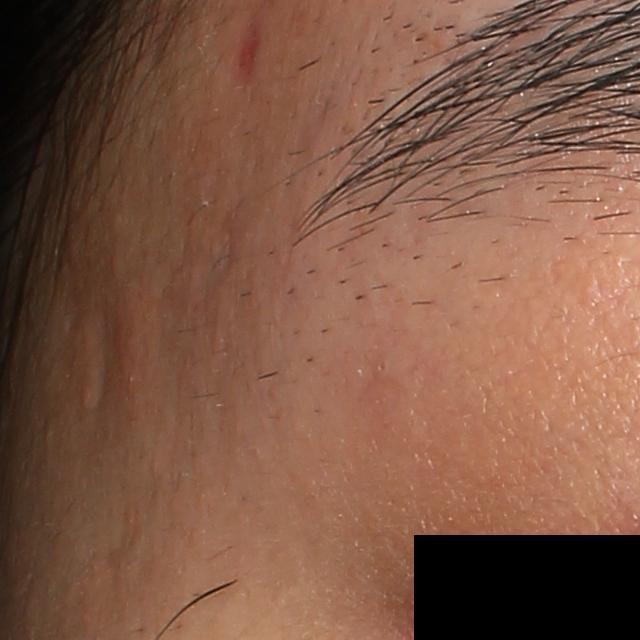atrophic_scar: (83, 301, 120, 414), (229, 23, 263, 89)
